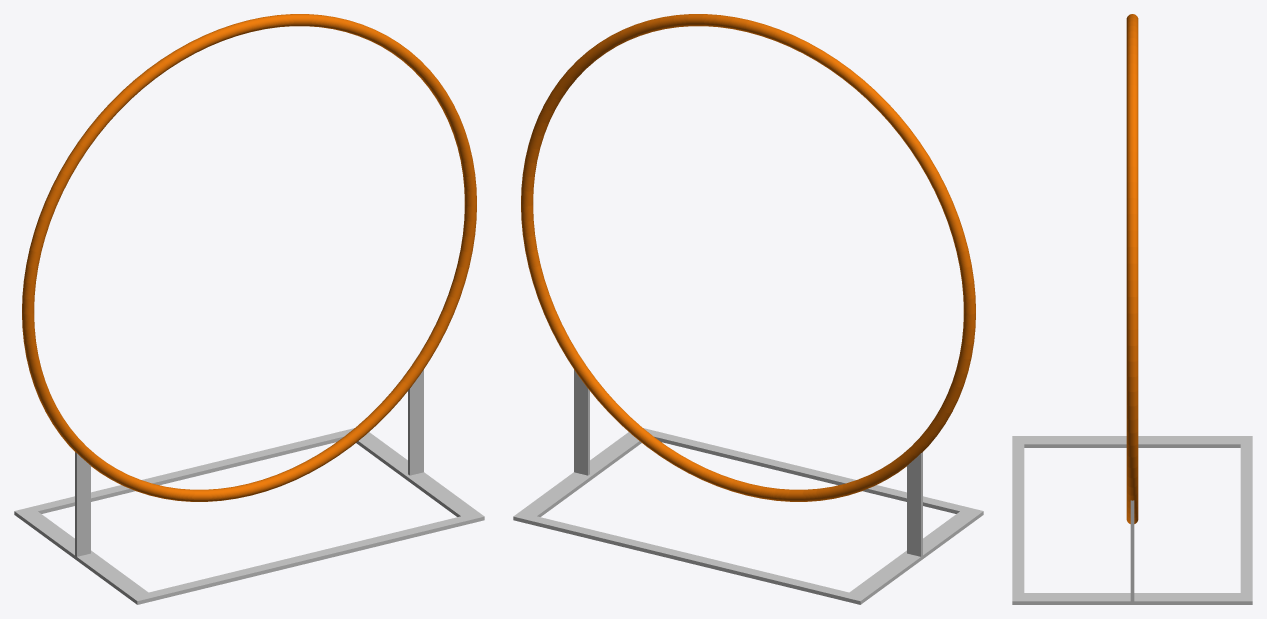
Rendered from KucukCember.obj.
3 views of the same model, side by side, from view 1: azimuth 30°, elevation 25°; view 2: azimuth 150°, elevation 25°; view 3: azimuth 270°, elevation 25° (orthographic). The views are drawn at different scales.
Parts seen in each view (by area): view 1: KucukCember, BasePlate, Plane; view 2: KucukCember, BasePlate, Plane; view 3: BasePlate, KucukCember, Plane.
Part boxes in pixels (x1=…): KucukCember: x1=22, y1=14, x2=476, y2=501; BasePlate: x1=14, y1=428, x2=484, y2=604; Plane: x1=75, y1=369, x2=423, y2=559; KucukCember: x1=521, y1=14, x2=975, y2=501; BasePlate: x1=513, y1=428, x2=983, y2=604; Plane: x1=574, y1=369, x2=922, y2=556; BasePlate: x1=1012, y1=436, x2=1252, y2=604; KucukCember: x1=1126, y1=14, x2=1138, y2=523; Plane: x1=1130, y1=500, x2=1134, y2=601.
Size of the model in its own units: 1.28 by 1.34 by 0.6023.
